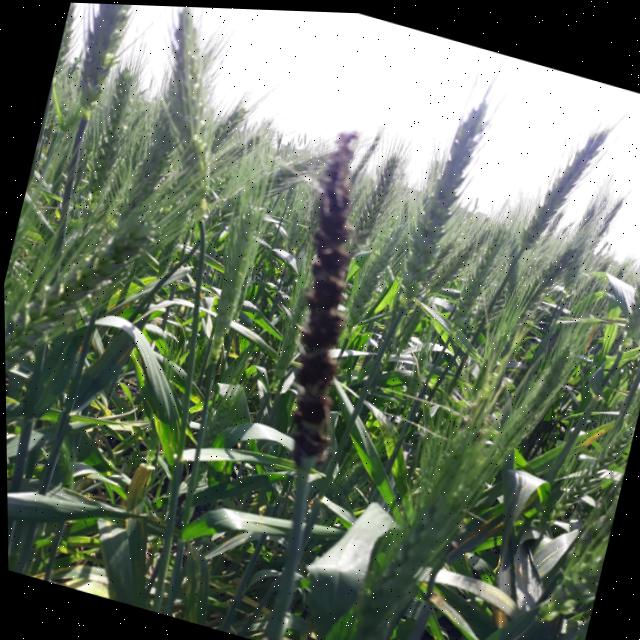loose_charred: (189, 83, 436, 517)
yellow_rust: (432, 458, 573, 591), (98, 450, 171, 557), (18, 539, 123, 600), (552, 398, 627, 472), (132, 392, 202, 467), (90, 264, 160, 324), (67, 328, 140, 383), (565, 300, 624, 362), (196, 570, 275, 615), (207, 518, 260, 568), (69, 392, 129, 435), (213, 317, 257, 367), (593, 372, 640, 403), (276, 611, 322, 640), (173, 271, 212, 305), (161, 598, 193, 621), (395, 626, 437, 640)
